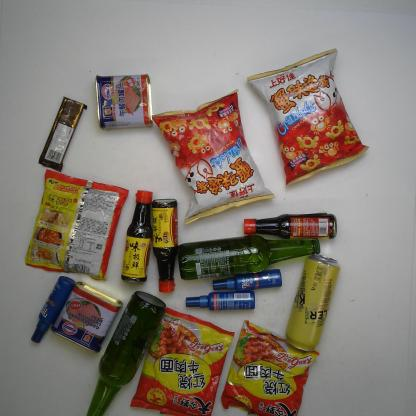Alcohol: (85, 289, 167, 416), (178, 234, 322, 281), (284, 252, 342, 353)
Canned Food: (50, 281, 123, 354), (93, 72, 153, 131)
Chocolate: (36, 95, 88, 174)
Instant Noodles: (25, 168, 130, 282), (128, 306, 235, 416), (220, 319, 321, 415)
Personal Hygiene: (30, 275, 76, 345), (210, 268, 284, 292), (184, 290, 255, 312)
Puffed Food: (150, 88, 278, 228), (245, 46, 371, 186)
Seasoner: (120, 188, 154, 286), (150, 198, 180, 294), (243, 211, 338, 241)
